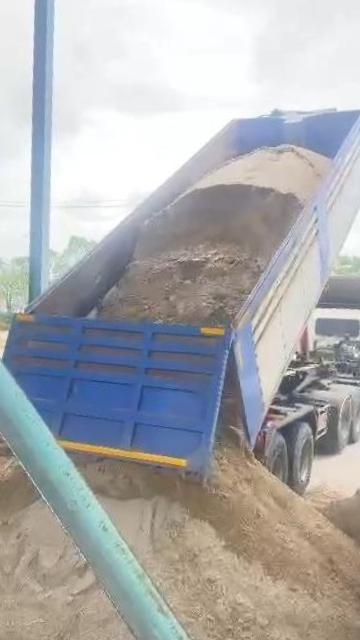sand: (80, 435, 360, 640), (98, 145, 330, 325), (2, 466, 167, 640), (324, 460, 360, 584)
